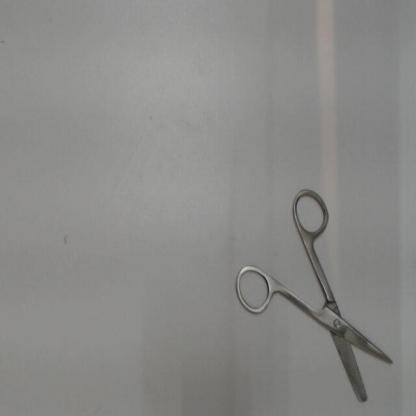Dressing Scissors: (229, 178, 399, 411)
